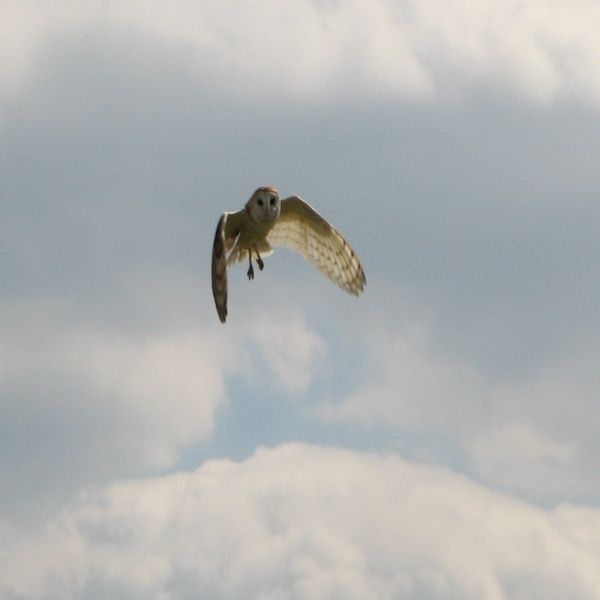bird: (194, 169, 366, 329)
